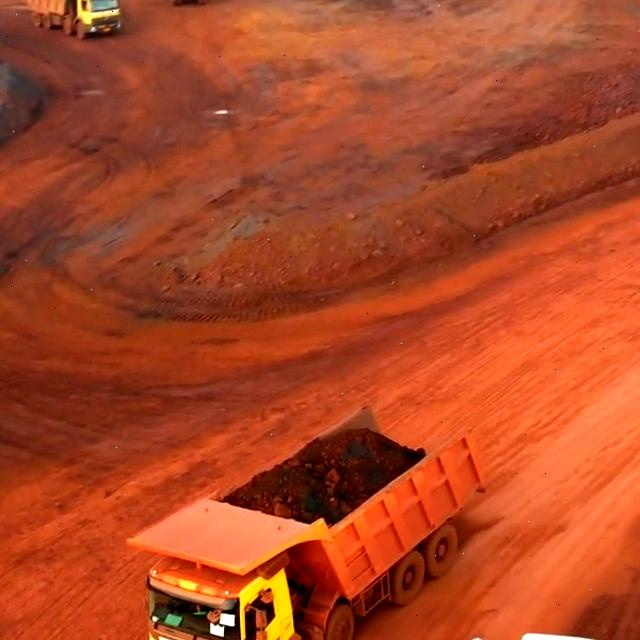Dumper truck: (146, 517, 294, 640), (34, 0, 115, 40)
